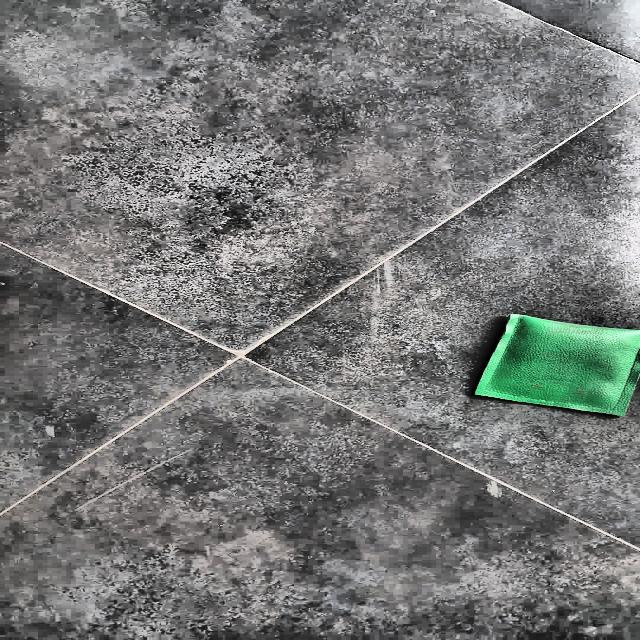payload: (474, 314, 639, 416)
